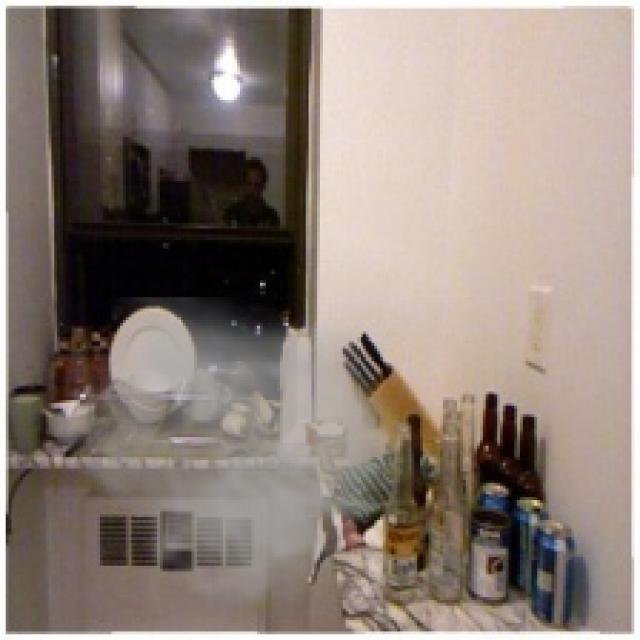Smoke: (49, 297, 438, 637)
